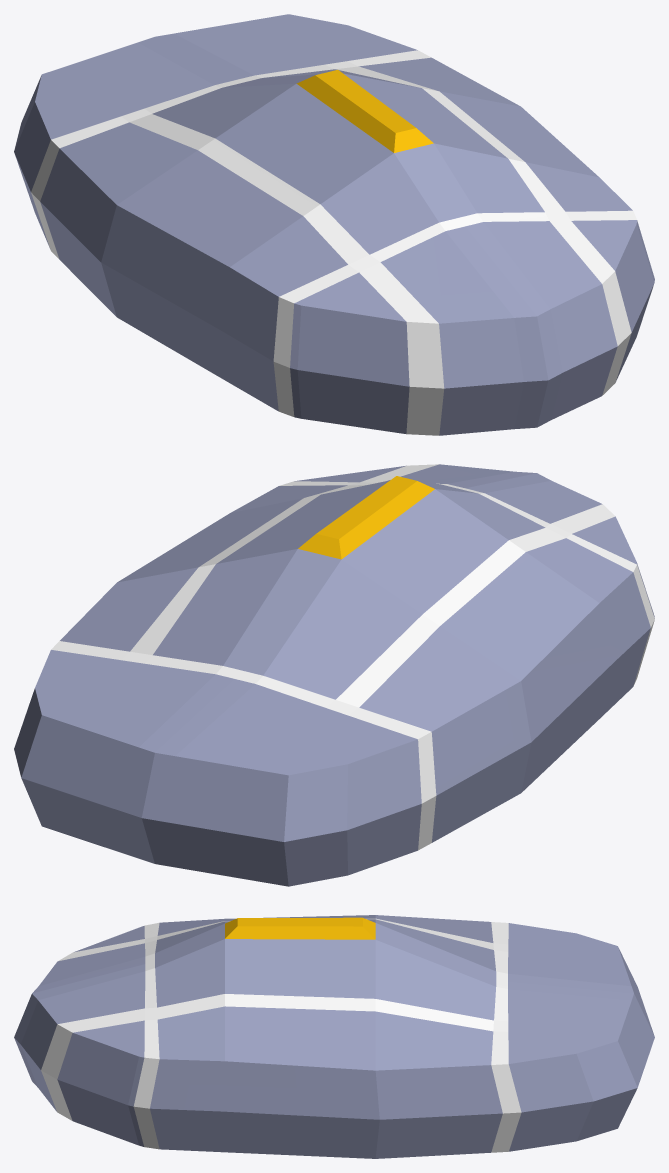
File: Mouse_2C.fbx
The picture shows the model from 3 angles, top to bottom: view 1: azimuth 30°, elevation 25°; view 2: azimuth 150°, elevation 25°; view 3: azimuth 270°, elevation 25°; orthographic projection. The views are drawn at different scales.
Parts seen in each view (by area): view 1: Mouse_2C; view 2: Mouse_2C; view 3: Mouse_2C.
Boxes of the visible parts, x1,y1,x2,y2 form: Mouse_2C: (14,14,654,435); Mouse_2C: (14,464,654,886); Mouse_2C: (14,915,654,1158).
Size of the model in its own units: 0.053 by 0.0237 by 0.0867.
